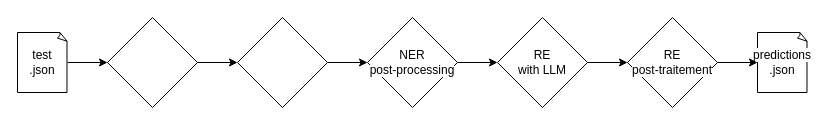
This 829x125 diagram has some shape labels left out. Each missing label, with the centre of its shape:
Fine-grained classification with LLM: point 282,62
NER with Camembert bio GLiNER: point 152,62
